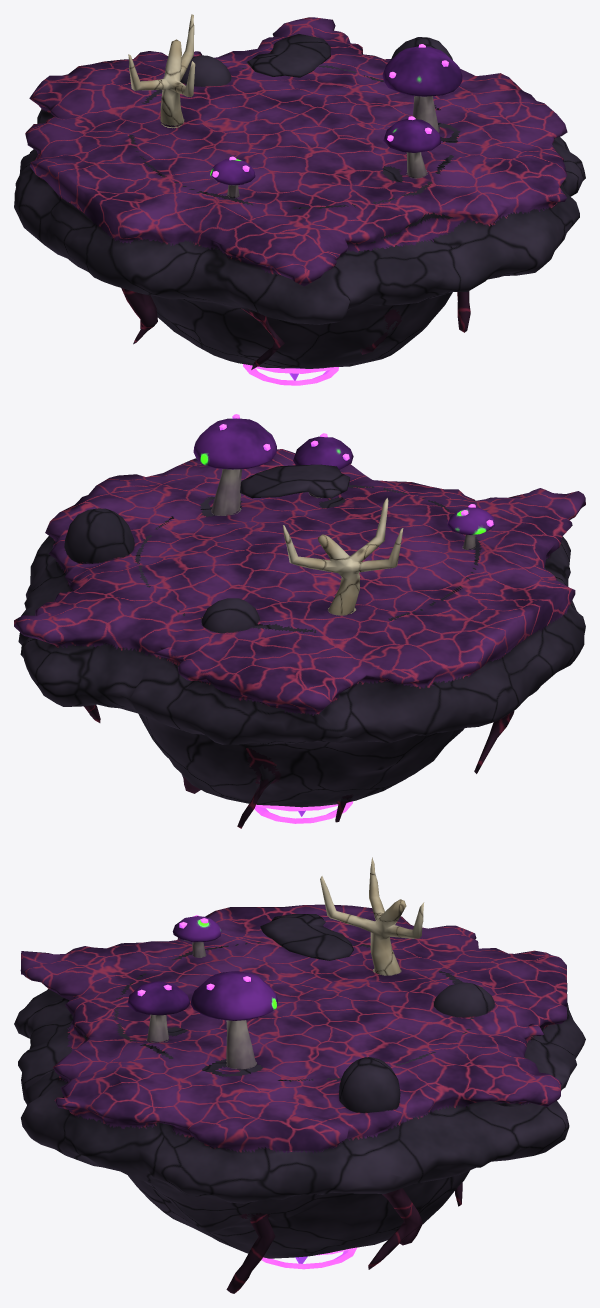
The model's file is isla_flotante.fbx.
The picture shows the model from 3 angles, top to bottom: view 1: azimuth 30°, elevation 25°; view 2: azimuth 150°, elevation 25°; view 3: azimuth 270°, elevation 25°; orthographic projection. The views are drawn at different scales.
Parts seen in each view (by area): view 1: isla, energia_neon; view 2: isla, energia_neon; view 3: isla, energia_neon.
Part boxes in pixels (<box>): isla: <box>14,14,585,369</box>; energia_neon: <box>212,44,448,385</box>; isla: <box>14,418,585,828</box>; energia_neon: <box>219,414,493,823</box>; isla: <box>14,857,585,1293</box>; energia_neon: <box>137,915,358,1269</box>.
Bounding box in the file's own units: 6.01 × 4 × 6.01.
Materials: 1 (1 with a texture image).
